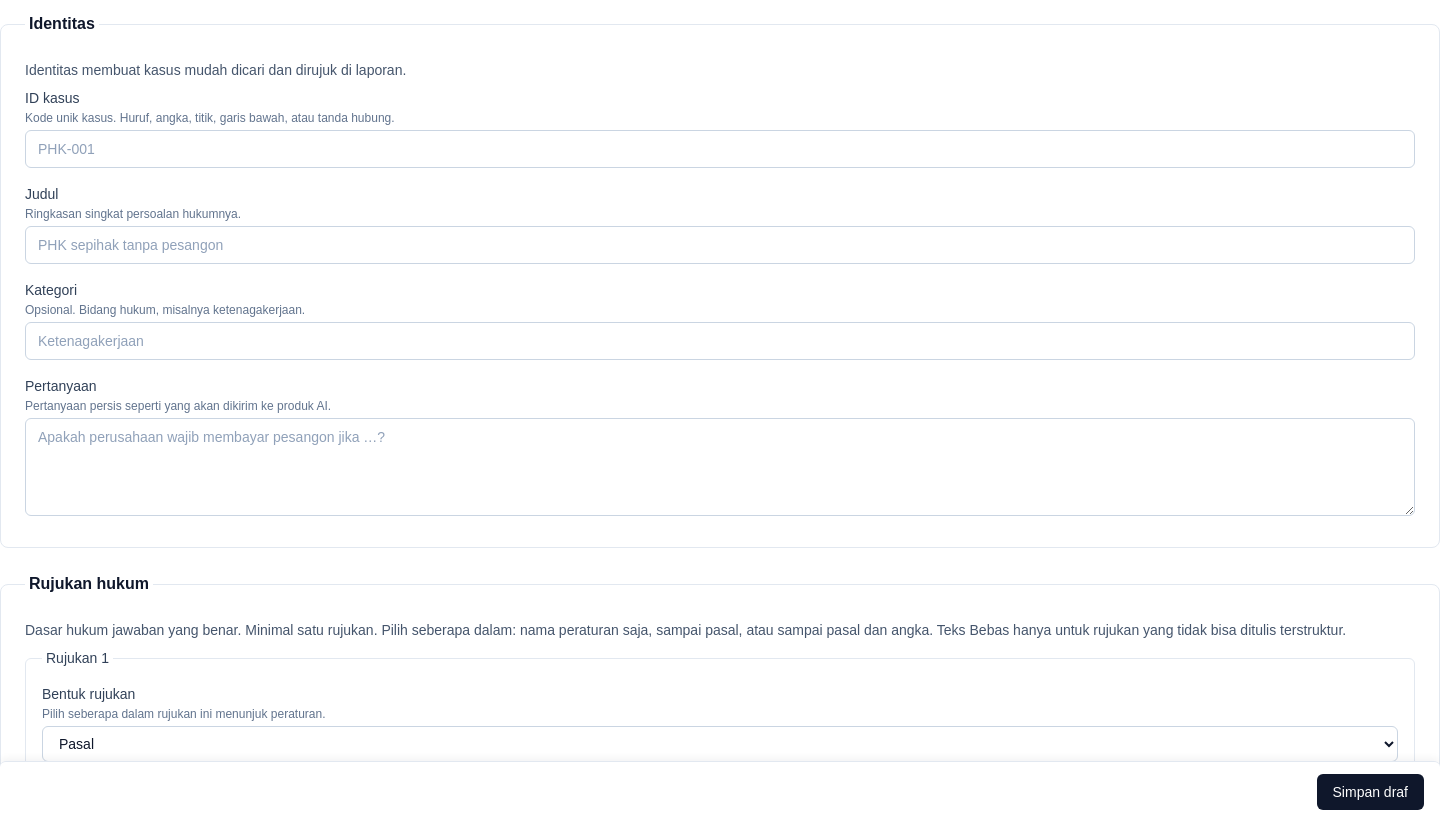
Scenario: CaseEditorForm › does not send an empty form and lists what is missing above the form
Click the button "Simpan draf": click(1370, 792) top-left (1316, 774), bottom-right (1424, 810)
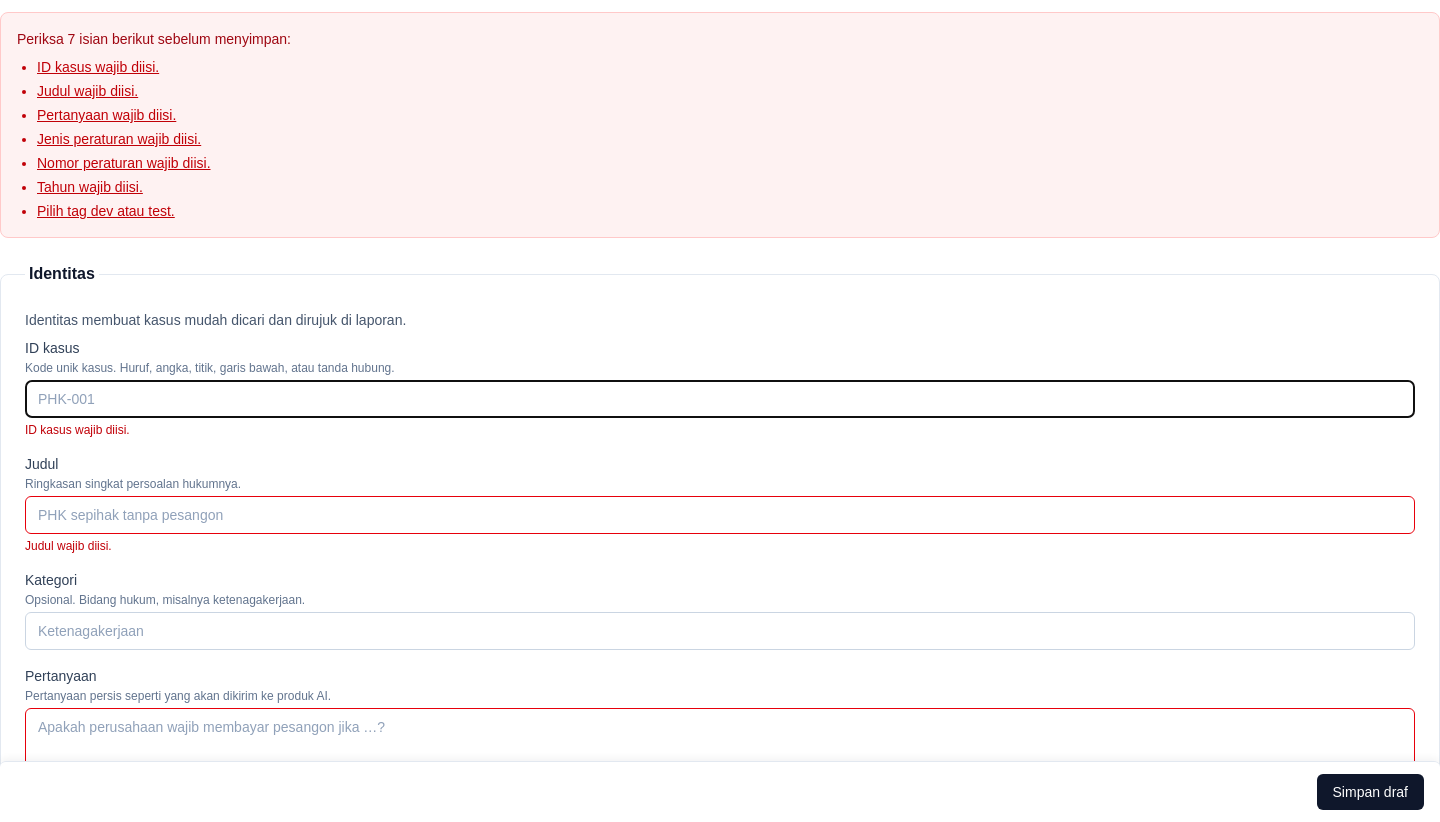
Check: the message shows "Periksa 7 isian berikut sebelum menyimpan:", box top-left (0, 12), bottom-right (1439, 238)
Check: the button "ID kasus wajib diisi." is shown, box top-left (37, 57), bottom-right (159, 77)
Check: the button "Judul wajib diisi." is shown, box top-left (37, 81), bottom-right (138, 101)
